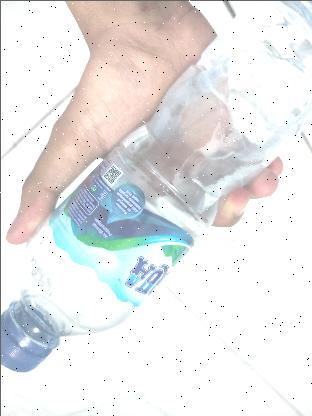Plastic Bottle: (0, 0, 312, 384)
